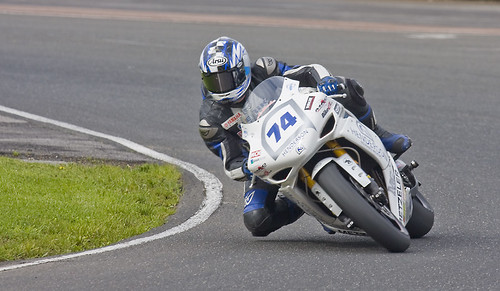helmet: (192, 35, 247, 97)
